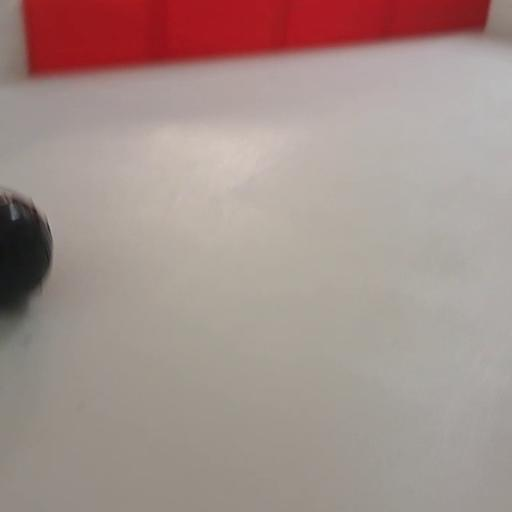dead: (0, 188, 55, 306)
